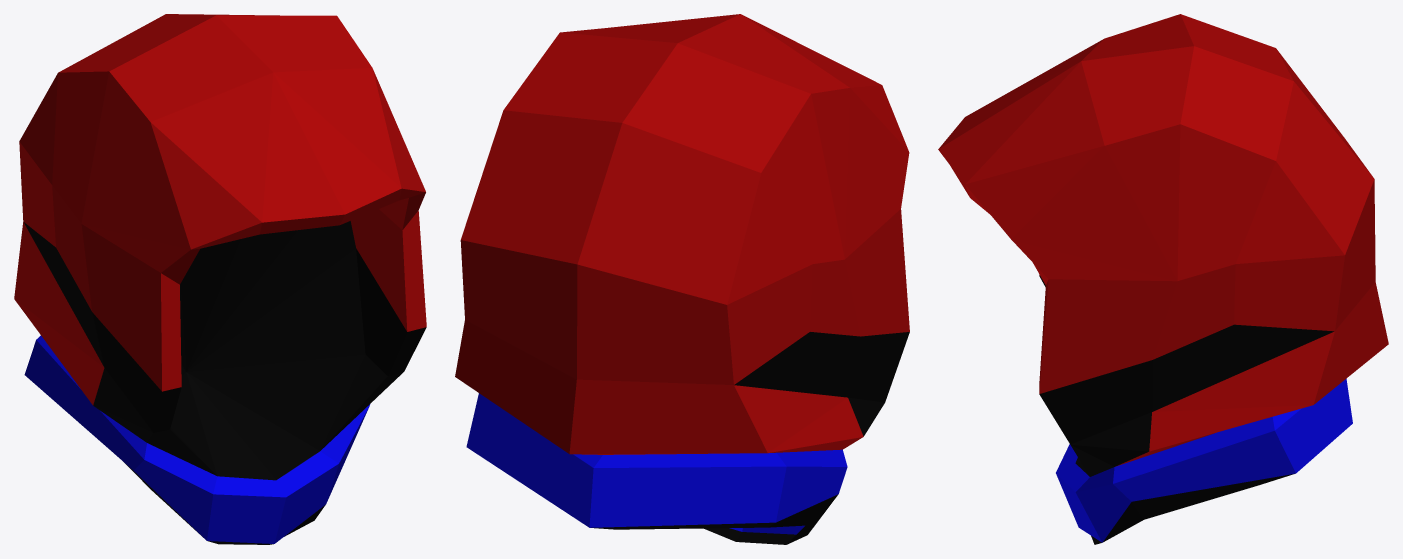
File: Chr_HeadCoverings_NoHair_Static_07.fbx
3 renders of one model, left to right at view 1: azimuth 30°, elevation 25°; view 2: azimuth 150°, elevation 25°; view 3: azimuth 270°, elevation 25°, orthographic. The views are drawn at different scales.
Visible parts, largest first — view 1: Chr_HeadCoverings_No_Hair_07; view 2: Chr_HeadCoverings_No_Hair_07; view 3: Chr_HeadCoverings_No_Hair_07.
Boxes of the visible parts, <box> form: Chr_HeadCoverings_No_Hair_07: <box>14,14,426,544</box>; Chr_HeadCoverings_No_Hair_07: <box>455,14,909,544</box>; Chr_HeadCoverings_No_Hair_07: <box>938,14,1388,544</box>.
Bounding box in the file's own units: 27.96 × 44.98 × 37.77.
